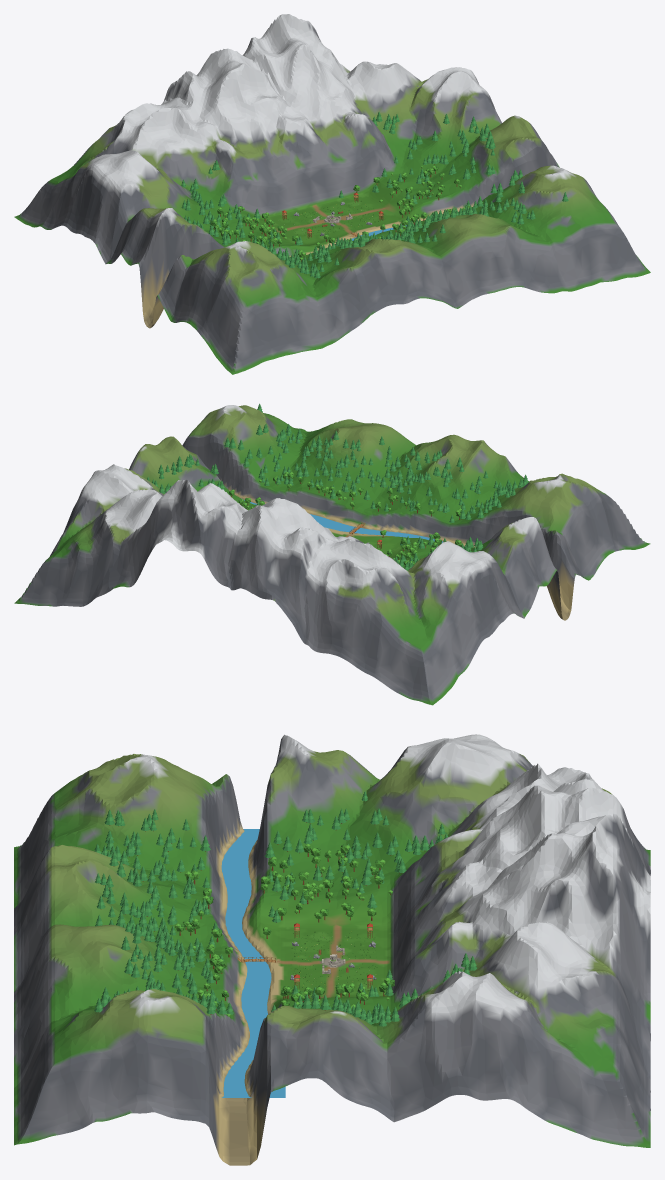
Rendered from valley.glb.
3 renders of one model, top to bottom at view 1: azimuth 30°, elevation 25°; view 2: azimuth 150°, elevation 25°; view 3: azimuth 270°, elevation 25°, orthographic. The views are drawn at different scales.
Visible parts, largest first — view 1: Terrain; view 2: Terrain, Water; view 3: Terrain, Water.
Boxes of the visible parts, x1,y1,x2,y2 form: Terrain: (14, 14, 650, 374); Terrain: (14, 405, 650, 705); Water: (241, 498, 442, 542); Terrain: (14, 734, 650, 1165); Water: (221, 829, 285, 1097).
Bounding box in the file's own units: 309 × 115 × 279.
